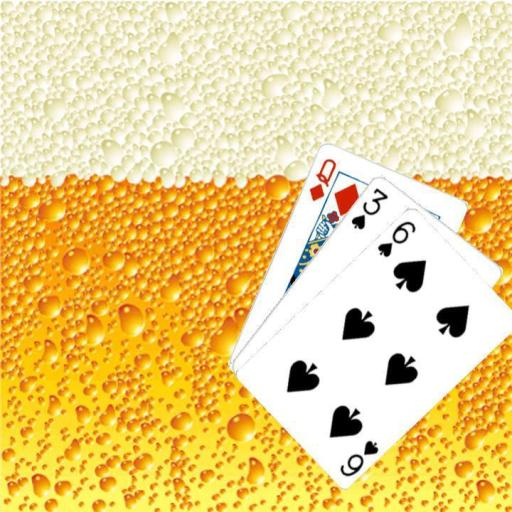card-corner: (348, 184, 390, 231), (336, 436, 380, 478), (374, 217, 417, 259), (306, 154, 338, 203)
